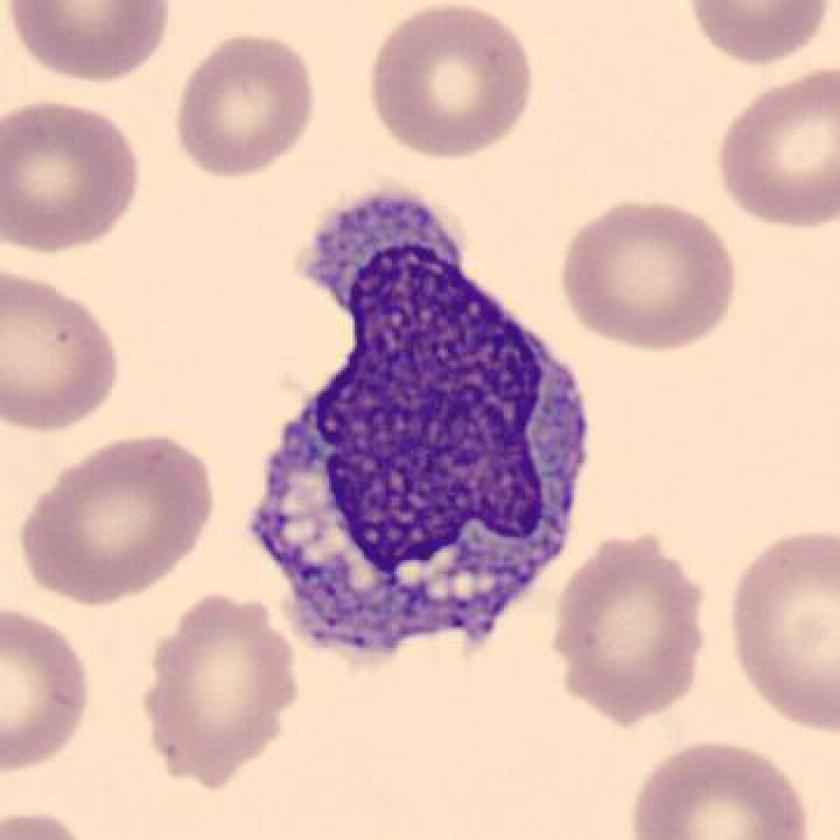monocyte: (230, 166, 624, 696)
